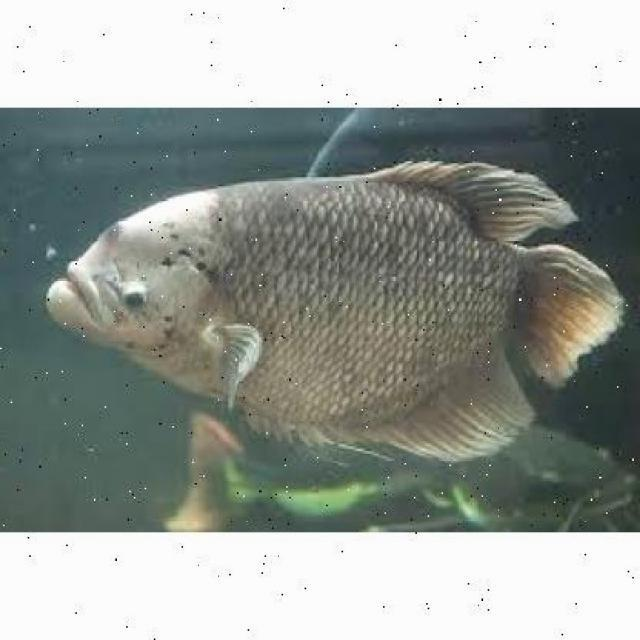gurame: (39, 156, 619, 462)
